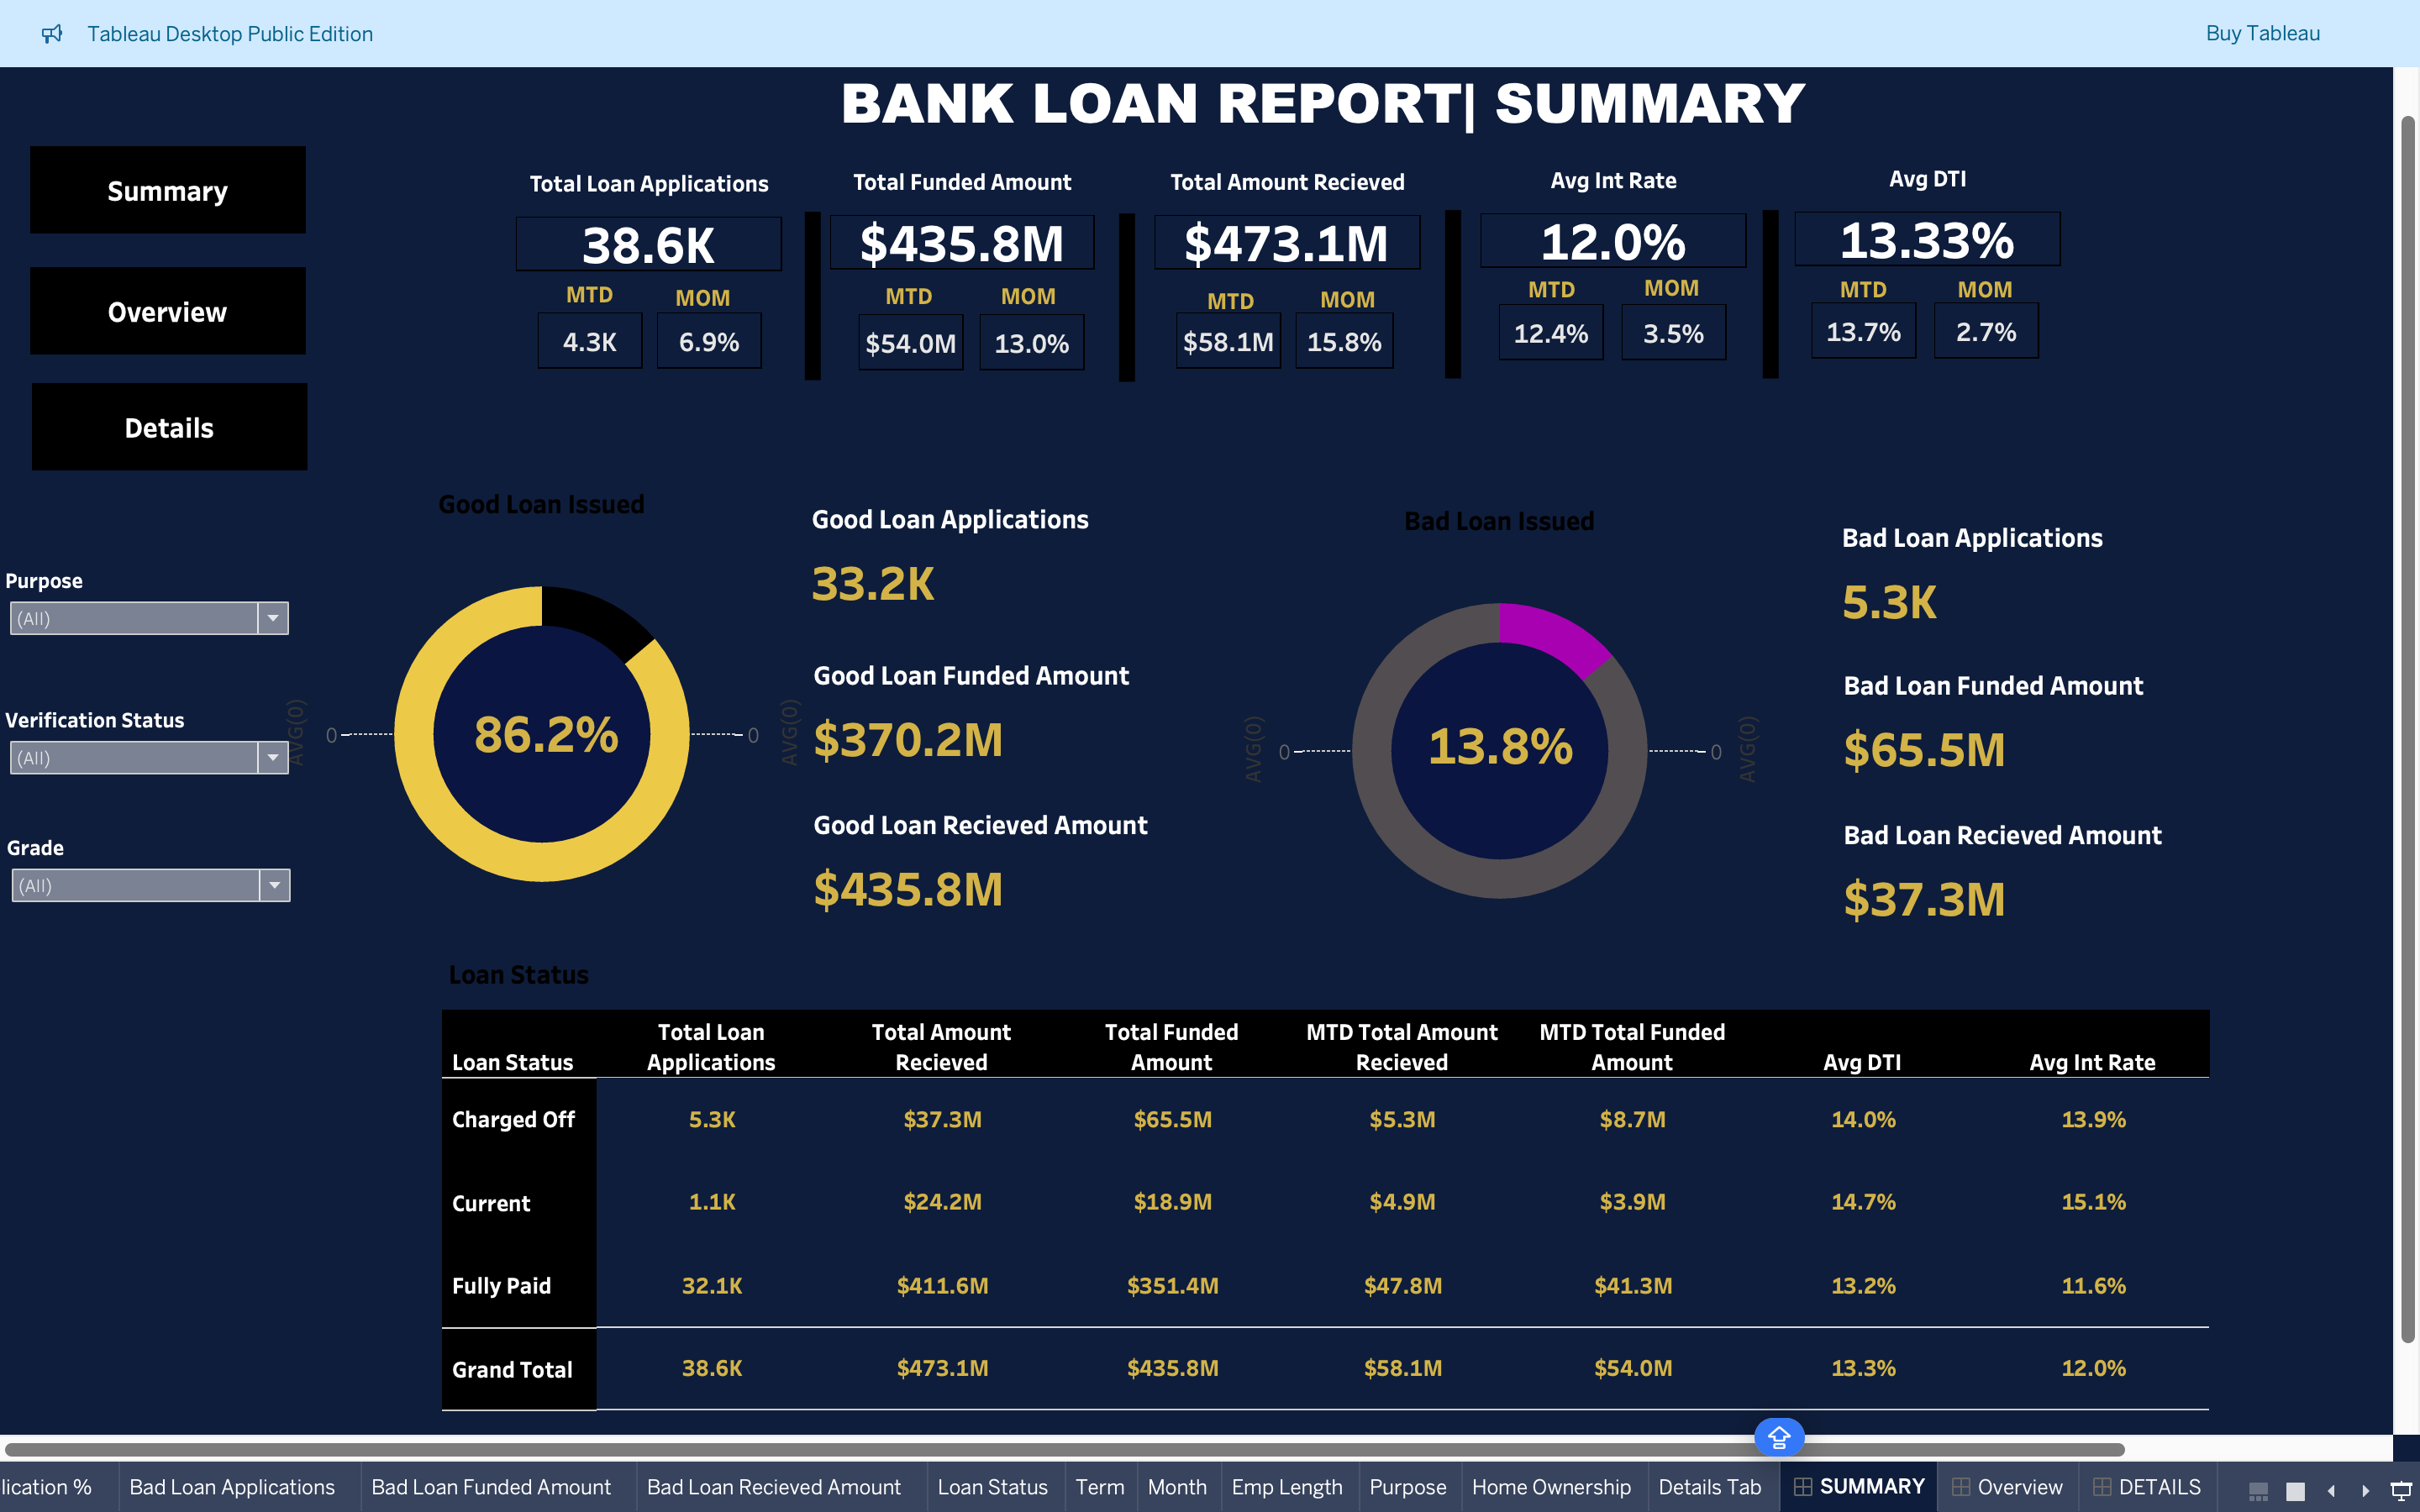

The page's visual inventory and layout, read from the dashboard file:
{"tool":"tableau","page":{"name":"SUMMARY","canvas":[1600,900],"ordinal":2},"visuals":[{"type":"text","box":[447,13,681,74]},{"type":"dashboard-object","box":[18,76,164,52]},{"type":"text","box":[1033,77,54,151]},{"type":"worksheet","title":"Avg DTI","mark":"Automatic","box":[1068,82,159,66]},{"type":"worksheet","title":"Avg Int Rate","mark":"Automatic","box":[881,83,159,66]},{"type":"worksheet","title":"Total Funded Amount","mark":"Automatic","box":[494,84,158,66]},{"type":"worksheet","title":"Total Amount Recieved","mark":"Automatic","box":[687,84,159,66]},{"type":"worksheet","title":"Total Loan Applications","mark":"Automatic","box":[307,85,159,66]},{"type":"text","box":[463,88,47,149]},{"type":"text","box":[844,88,44,130]},{"type":"text","box":[650,90,40,130]},{"type":"text","box":[894,146,59,30]},{"type":"text","box":[1081,146,56,30]},{"type":"text","box":[965,147,60,26]},{"type":"dashboard-object","box":[18,148,164,52]},{"type":"text","box":[1156,148,51,25]},{"type":"text","box":[330,149,42,30]},{"type":"text","box":[513,150,56,29]},{"type":"text","box":[593,151,42,28]},{"type":"text","box":[396,154,45,23]},{"type":"text","box":[783,154,41,25]},{"type":"text","box":[702,155,61,26]},{"type":"worksheet","title":"MTD Avg DTI","mark":"Automatic","box":[1078,169,63,34]},{"type":"worksheet","title":"MoM Avg DTI","mark":"Automatic","box":[1151,169,63,34]},{"type":"worksheet","title":"MTD Avg Int Rate","mark":"Automatic","box":[892,170,63,34]},{"type":"worksheet","title":"MoM Avg Int Rate ","mark":"Automatic","box":[965,170,63,34]},{"type":"worksheet","title":"MTD Total Loan Applications ","mark":"Automatic","box":[320,175,63,34]},{"type":"worksheet","title":"MoM Total Loan Applications","mark":"Automatic","box":[391,175,63,34]},{"type":"worksheet","title":"MTD Total Amount Recieved ","mark":"Automatic","box":[700,175,63,34]},{"type":"worksheet","title":"MoM Total Amount Recieved","mark":"Automatic","box":[771,175,63,34]},{"type":"worksheet","title":"MTD Total Funded Amount","mark":"Automatic","box":[511,176,63,34]},{"type":"worksheet","title":"MoM Total Funded Amount","mark":"Automatic","box":[583,176,63,34]},{"type":"dashboard-object","box":[19,217,164,52]},{"type":"worksheet","title":"Good Loan Issued","mark":"Pie","rows":["Calculation_5148951434744057878","Calculation_5148951434744057878"],"box":[160,274,325,268]},{"type":"worksheet","title":"Good Loan Applications","mark":"Automatic","box":[475,279,300,75]},{"type":"worksheet","title":"Bad Loan Issued","mark":"Pie","rows":["Calculation_5148951434744057878","Calculation_5148951434744057878"],"box":[730,284,325,268]},{"type":"worksheet","title":"Bad Loan Applications ","mark":"Automatic","box":[1088,290,300,75]},{"type":"filter","title":"Good Loan Issued","param":"[federated.1t1mkk51ygzmhx1bof0sq17v035e].[none:purpose:nk]","box":[3,326,172,71]},{"type":"worksheet","title":"Good Loan Funded Amount","mark":"Automatic","box":[476,372,300,75]},{"type":"worksheet","title":"Bad Loan Funded Amount ","mark":"Automatic","box":[1089,378,300,75]},{"type":"worksheet","title":"Good Loan Application %","mark":"Automatic","box":[278,397,94,56]},{"type":"worksheet","title":"Bad Loan Application % ","mark":"Automatic","box":[843,403,99,58]},{"type":"filter","title":"Good Loan Issued","param":"[federated.1t1mkk51ygzmhx1bof0sq17v035e].[none:verification_status:nk]","box":[3,409,172,71]},{"type":"worksheet","title":"Good Loan Recieved Amount","mark":"Automatic","box":[476,461,300,75]},{"type":"worksheet","title":"Bad Loan Recieved Amount ","mark":"Automatic","box":[1089,467,300,75]},{"type":"filter","title":"Good Loan Issued","param":"[federated.1t1mkk51ygzmhx1bof0sq17v035e].[none:grade:nk]","box":[4,485,172,71]},{"type":"worksheet","title":"Loan Status","mark":"Automatic","rows":["loan_status"],"box":[263,554,1052,275]}]}

Visuals, with their boxes on the page's 1600x900 design canvas (x1, y1, x2, y2). These are canvas units, not pixel positions in the 2420x1512 screenshot, which may show the page scaled, cropped or inside an application window:
text: <bbox>447, 13, 1128, 87</bbox>
dashboard-object: <bbox>18, 76, 182, 128</bbox>
text: <bbox>1033, 77, 1087, 228</bbox>
"Avg DTI" worksheet: <bbox>1068, 82, 1227, 148</bbox>
"Avg Int Rate" worksheet: <bbox>881, 83, 1040, 149</bbox>
"Total Funded Amount" worksheet: <bbox>494, 84, 652, 150</bbox>
"Total Amount Recieved" worksheet: <bbox>687, 84, 846, 150</bbox>
"Total Loan Applications" worksheet: <bbox>307, 85, 466, 151</bbox>
text: <bbox>463, 88, 510, 237</bbox>
text: <bbox>844, 88, 888, 218</bbox>
text: <bbox>650, 90, 690, 220</bbox>
text: <bbox>894, 146, 953, 176</bbox>
text: <bbox>1081, 146, 1137, 176</bbox>
text: <bbox>965, 147, 1025, 173</bbox>
dashboard-object: <bbox>18, 148, 182, 200</bbox>
text: <bbox>1156, 148, 1207, 173</bbox>
text: <bbox>330, 149, 372, 179</bbox>
text: <bbox>513, 150, 569, 179</bbox>
text: <bbox>593, 151, 635, 179</bbox>
text: <bbox>396, 154, 441, 177</bbox>
text: <bbox>783, 154, 824, 179</bbox>
text: <bbox>702, 155, 763, 181</bbox>
"MTD Avg DTI" worksheet: <bbox>1078, 169, 1141, 203</bbox>
"MoM Avg DTI" worksheet: <bbox>1151, 169, 1214, 203</bbox>
"MTD Avg Int Rate" worksheet: <bbox>892, 170, 955, 204</bbox>
"MoM Avg Int Rate " worksheet: <bbox>965, 170, 1028, 204</bbox>
"MTD Total Loan Applications " worksheet: <bbox>320, 175, 383, 209</bbox>
"MoM Total Loan Applications" worksheet: <bbox>391, 175, 454, 209</bbox>
"MTD Total Amount Recieved " worksheet: <bbox>700, 175, 763, 209</bbox>
"MoM Total Amount Recieved" worksheet: <bbox>771, 175, 834, 209</bbox>
"MTD Total Funded Amount" worksheet: <bbox>511, 176, 574, 210</bbox>
"MoM Total Funded Amount" worksheet: <bbox>583, 176, 646, 210</bbox>
dashboard-object: <bbox>19, 217, 183, 269</bbox>
"Good Loan Issued" worksheet (Pie marks): <bbox>160, 274, 485, 542</bbox>
"Good Loan Applications" worksheet: <bbox>475, 279, 775, 354</bbox>
"Bad Loan Issued" worksheet (Pie marks): <bbox>730, 284, 1055, 552</bbox>
"Bad Loan Applications " worksheet: <bbox>1088, 290, 1388, 365</bbox>
"Good Loan Issued" filter: <bbox>3, 326, 175, 397</bbox>
"Good Loan Funded Amount" worksheet: <bbox>476, 372, 776, 447</bbox>
"Bad Loan Funded Amount " worksheet: <bbox>1089, 378, 1389, 453</bbox>
"Good Loan Application %" worksheet: <bbox>278, 397, 372, 453</bbox>
"Bad Loan Application % " worksheet: <bbox>843, 403, 942, 461</bbox>
"Good Loan Issued" filter: <bbox>3, 409, 175, 480</bbox>
"Good Loan Recieved Amount" worksheet: <bbox>476, 461, 776, 536</bbox>
"Bad Loan Recieved Amount " worksheet: <bbox>1089, 467, 1389, 542</bbox>
"Good Loan Issued" filter: <bbox>4, 485, 176, 556</bbox>
"Loan Status" worksheet: <bbox>263, 554, 1315, 829</bbox>
